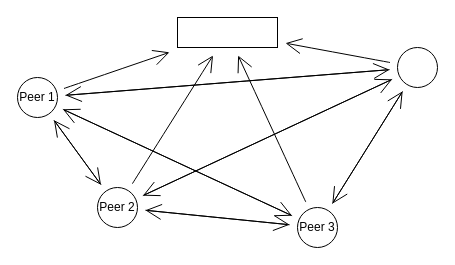
This 455x265 diagram has some shape labels left out. Here are the shapes that lost their labels. From the top down, the box of each, then its label:
(176, 16, 278, 48): Bootstrap Server
(396, 46, 438, 88): Peer 4
